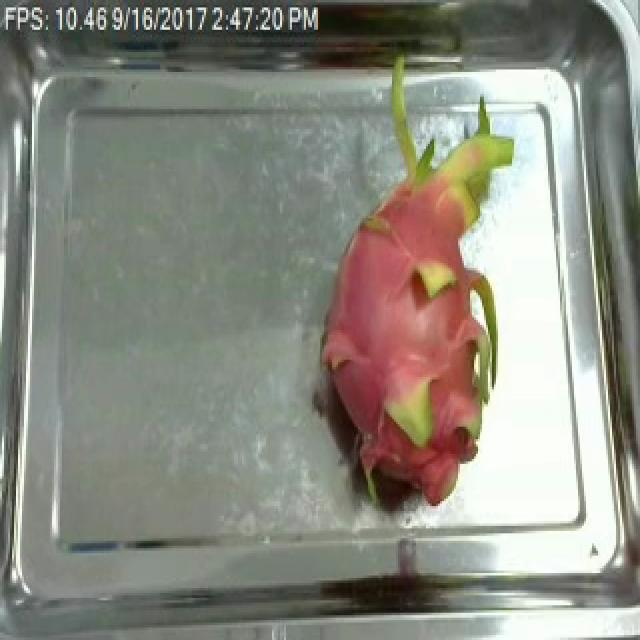fruit: (308, 99, 548, 526)
